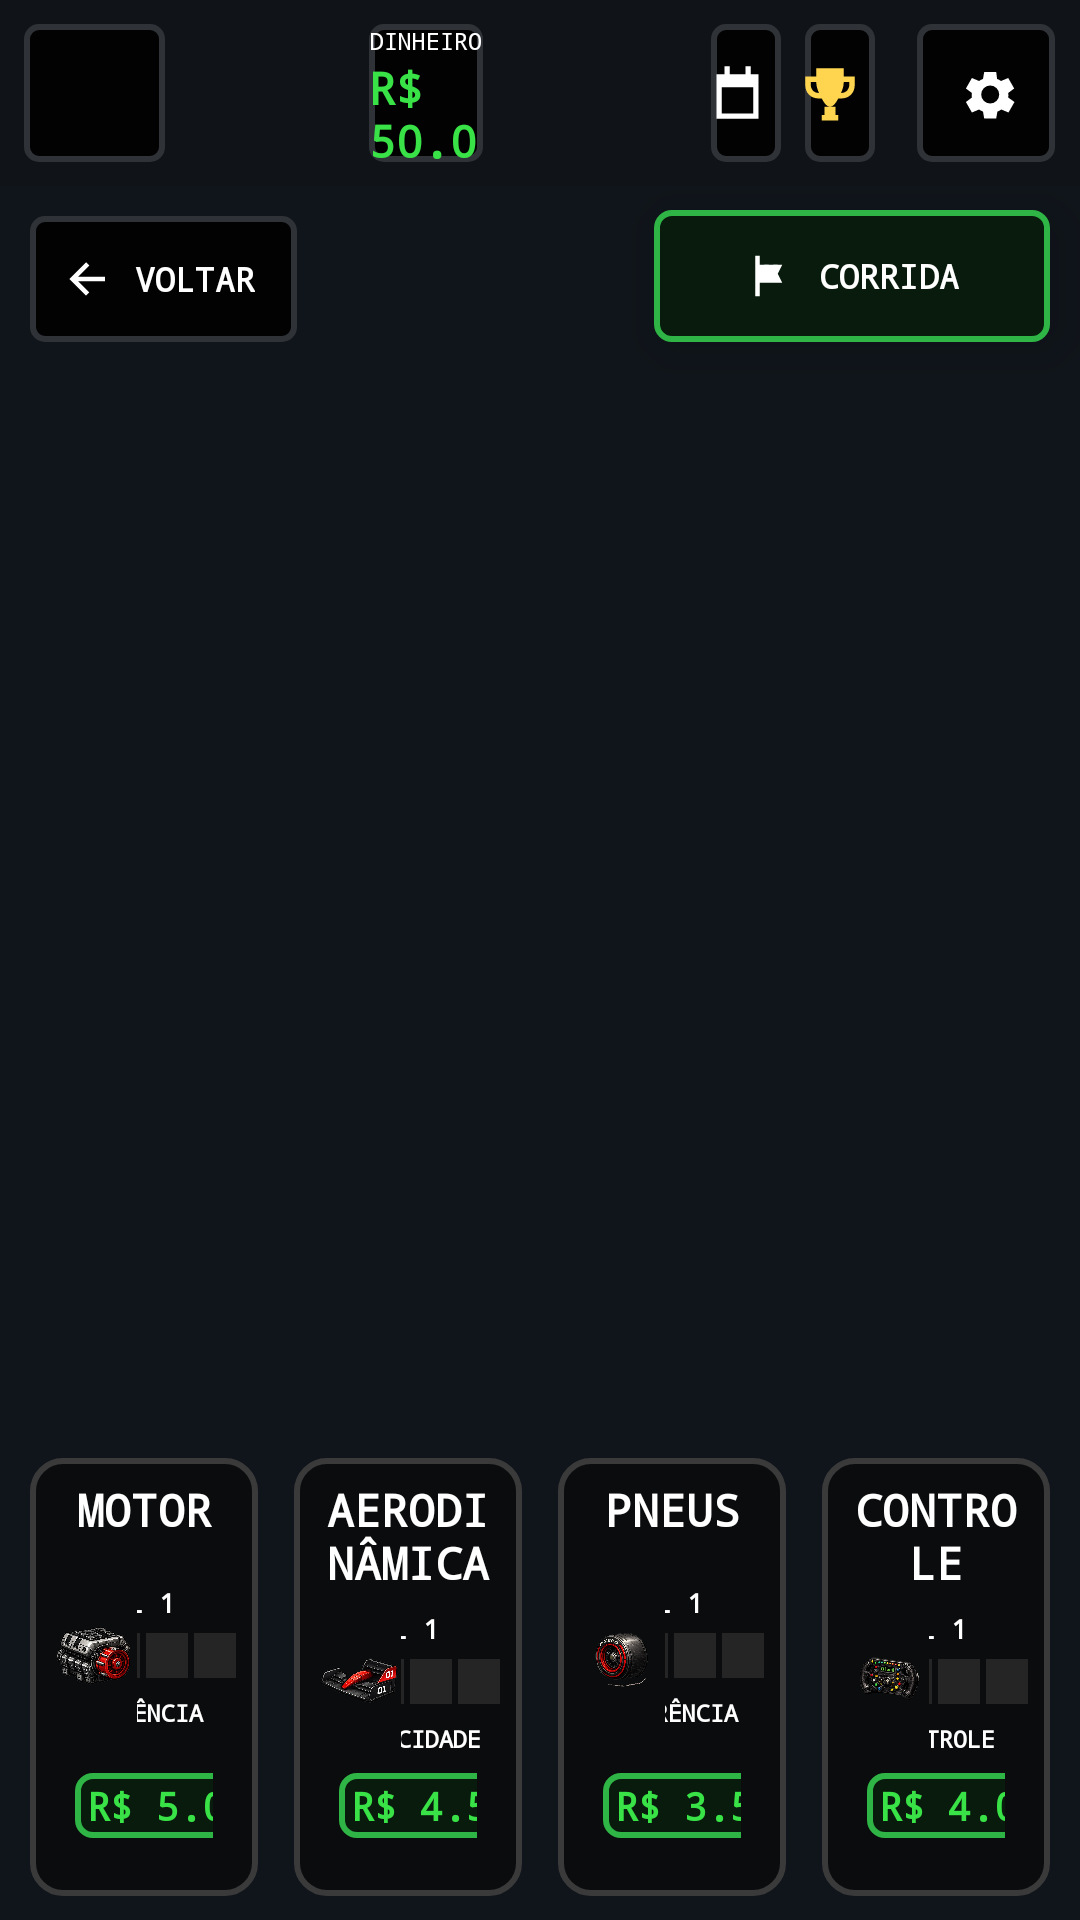

Icons on this 1080×1920 Android screen, each with its box as (x1, y1, x2, y2):
back: (69, 262, 105, 296)
calendar: (711, 61, 759, 124)
pneu upgrade: (595, 1633, 648, 1687)
race: (755, 255, 782, 297)
settings: (917, 24, 1055, 162)
